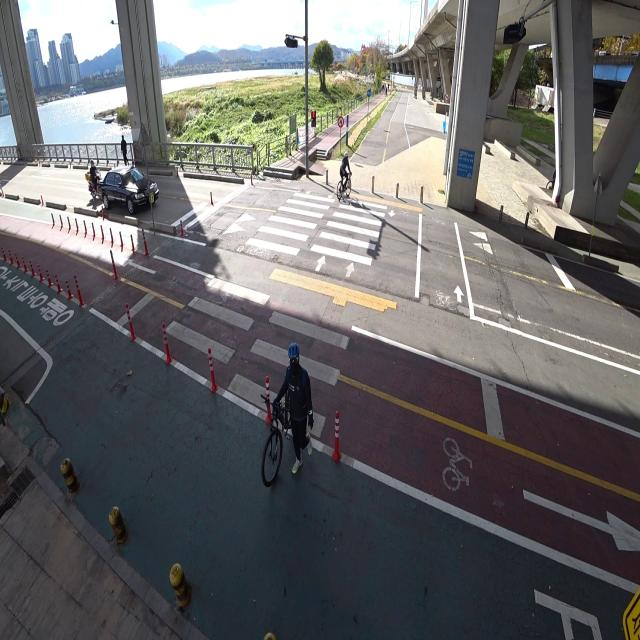Car: (103, 158, 159, 221)
Motorcycle: (85, 159, 102, 199)
